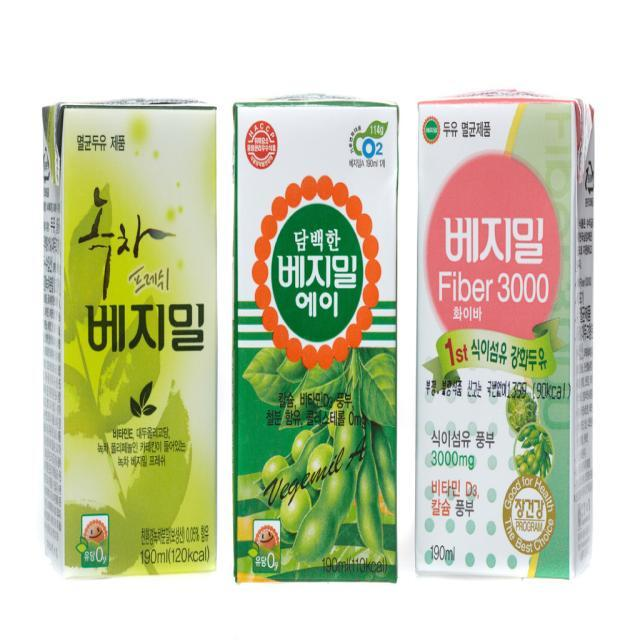Tetra: (408, 82, 604, 588), (33, 78, 224, 582), (226, 89, 410, 602)
